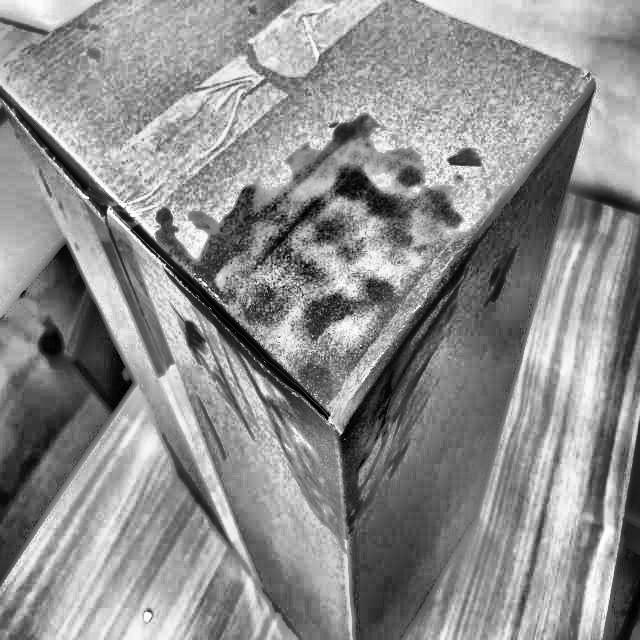box: (0, 0, 602, 639)
wet: (136, 104, 490, 524)
